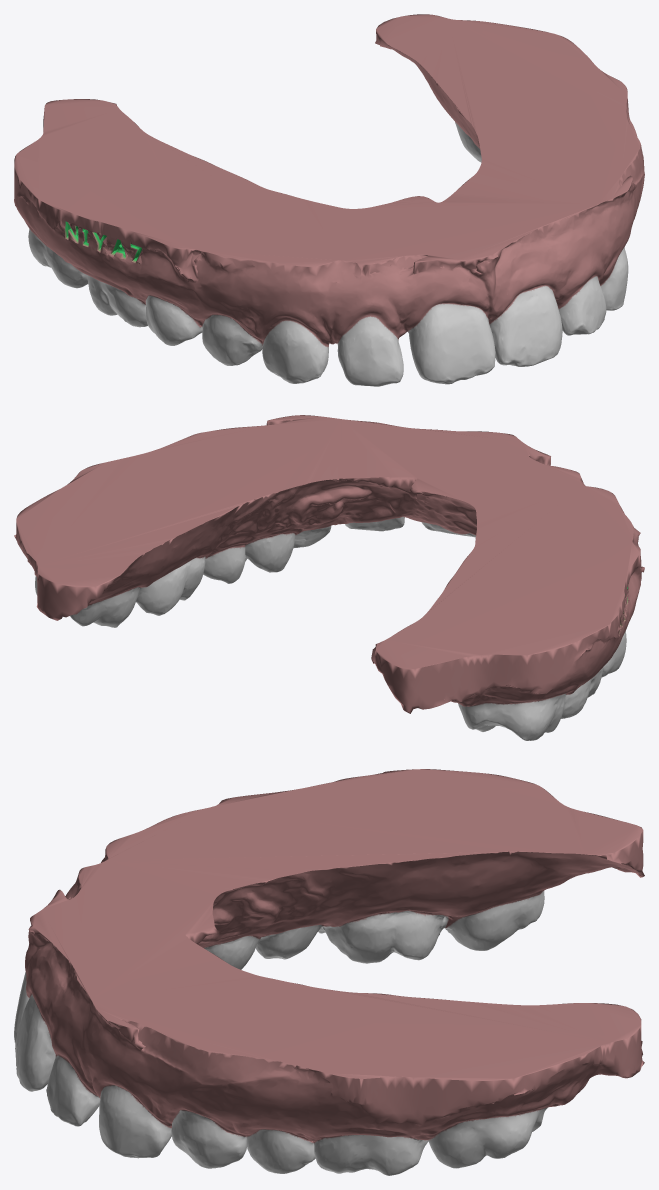
Rendered from Niya Priority Upper jaw - 07 - Model.glb.
3 renders of one model, top to bottom at view 1: azimuth 30°, elevation 25°; view 2: azimuth 150°, elevation 25°; view 3: azimuth 270°, elevation 25°, orthographic. The views are drawn at different scales.
Visible parts, largest first — view 1: Niya Priority Upper jaw - 07 - Model; view 2: Niya Priority Upper jaw - 07 - Model; view 3: Niya Priority Upper jaw - 07 - Model.
Part boxes in pixels (<box>): Niya Priority Upper jaw - 07 - Model: <box>14,14,644,386</box>; Niya Priority Upper jaw - 07 - Model: <box>14,415,644,740</box>; Niya Priority Upper jaw - 07 - Model: <box>14,769,644,1175</box>.
Bounding box in the file's own units: 66.35 × 13.71 × 56.69.
